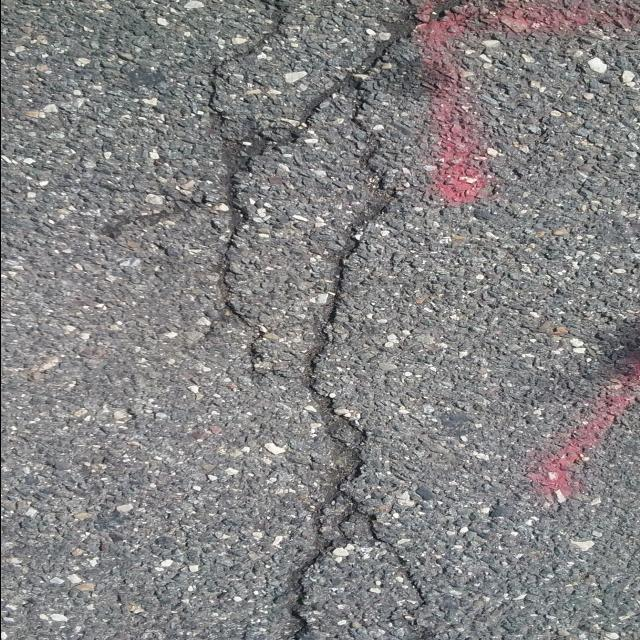Crack: (0, 0, 487, 640), (356, 504, 429, 640)
